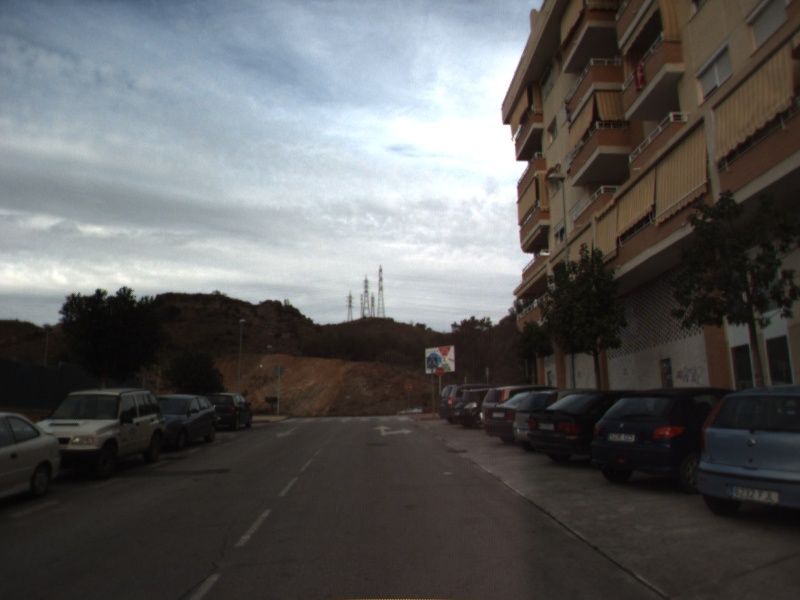STRAIGHT_RIGHT: (371, 423, 415, 438)
